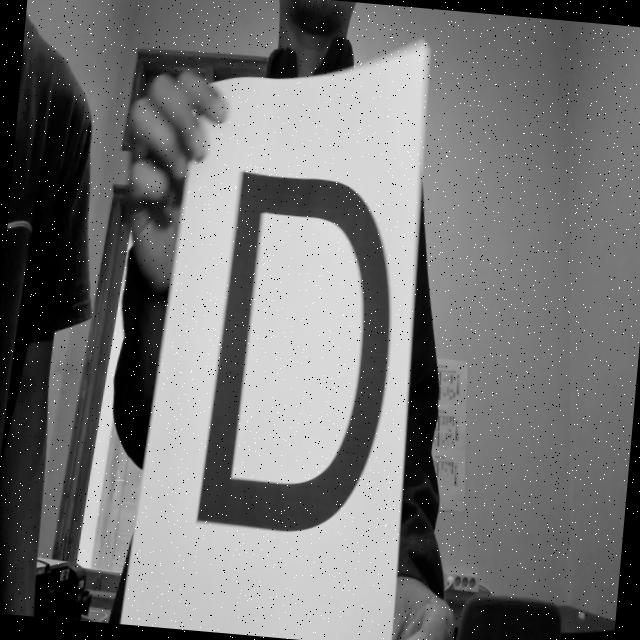d: (183, 154, 417, 578)
